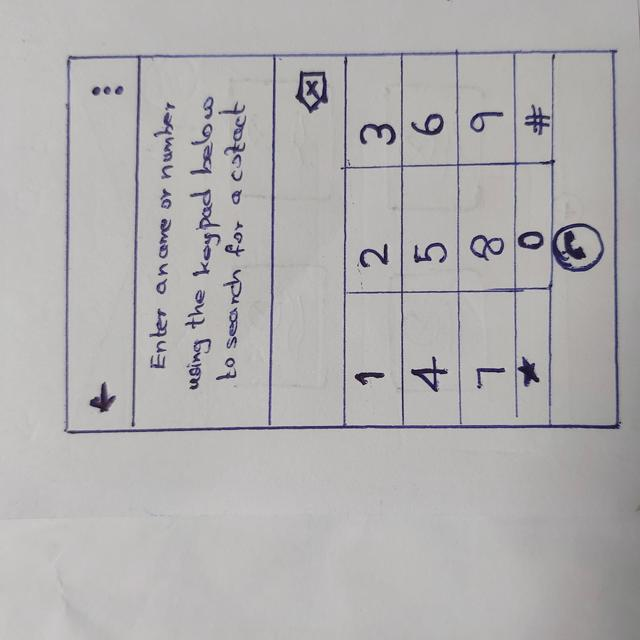ActionButton: (68, 77, 140, 107)
AppBar: (66, 56, 138, 430)
BackButton: (93, 382, 116, 413)
Icon: (299, 72, 328, 113), (93, 85, 126, 96)
IconButton: (554, 224, 604, 272)
Keyboard: (340, 57, 552, 428)
MainLayout: (66, 52, 619, 429)
TextView: (186, 95, 211, 394), (228, 103, 246, 383), (153, 105, 170, 372)
